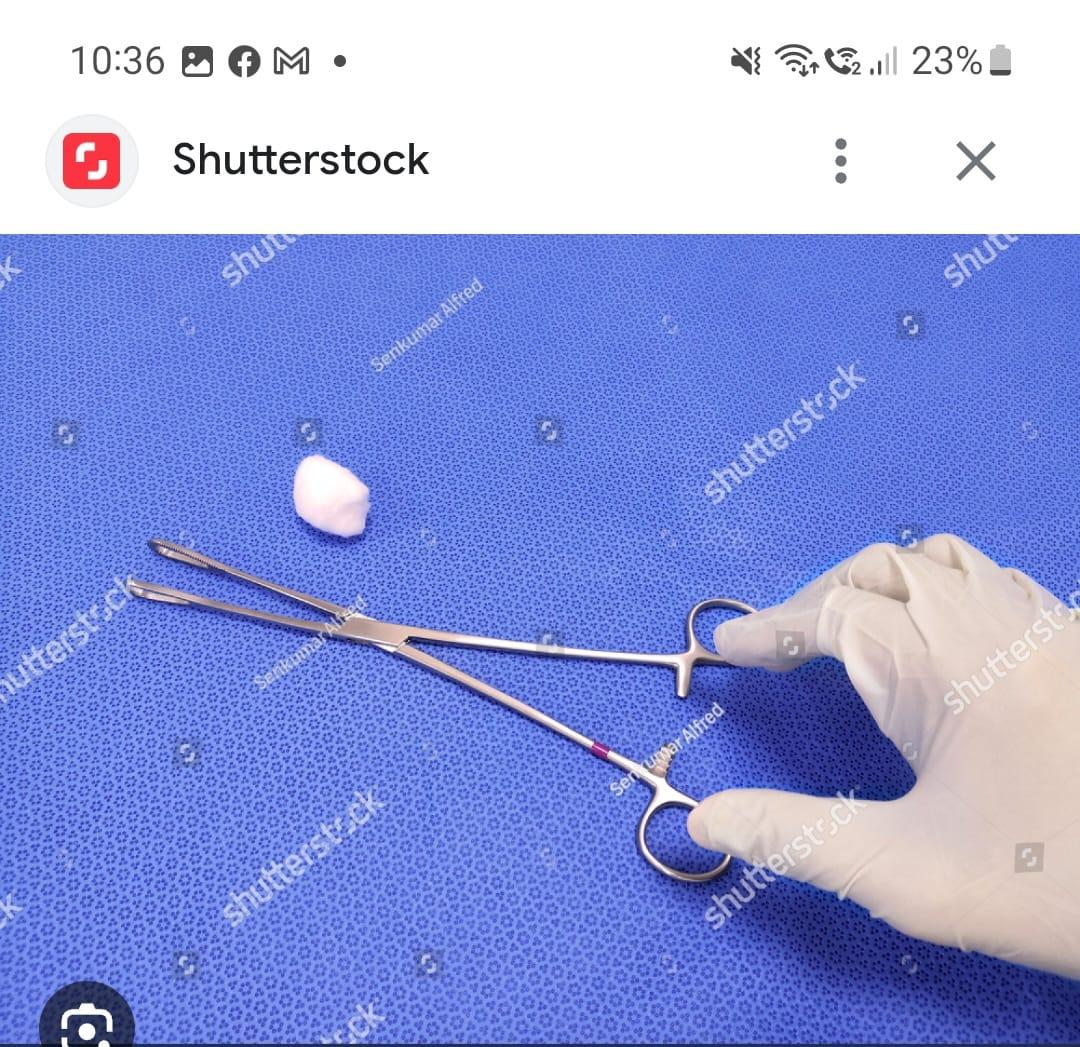Sponge Holding Forceps: (125, 513, 762, 880)
